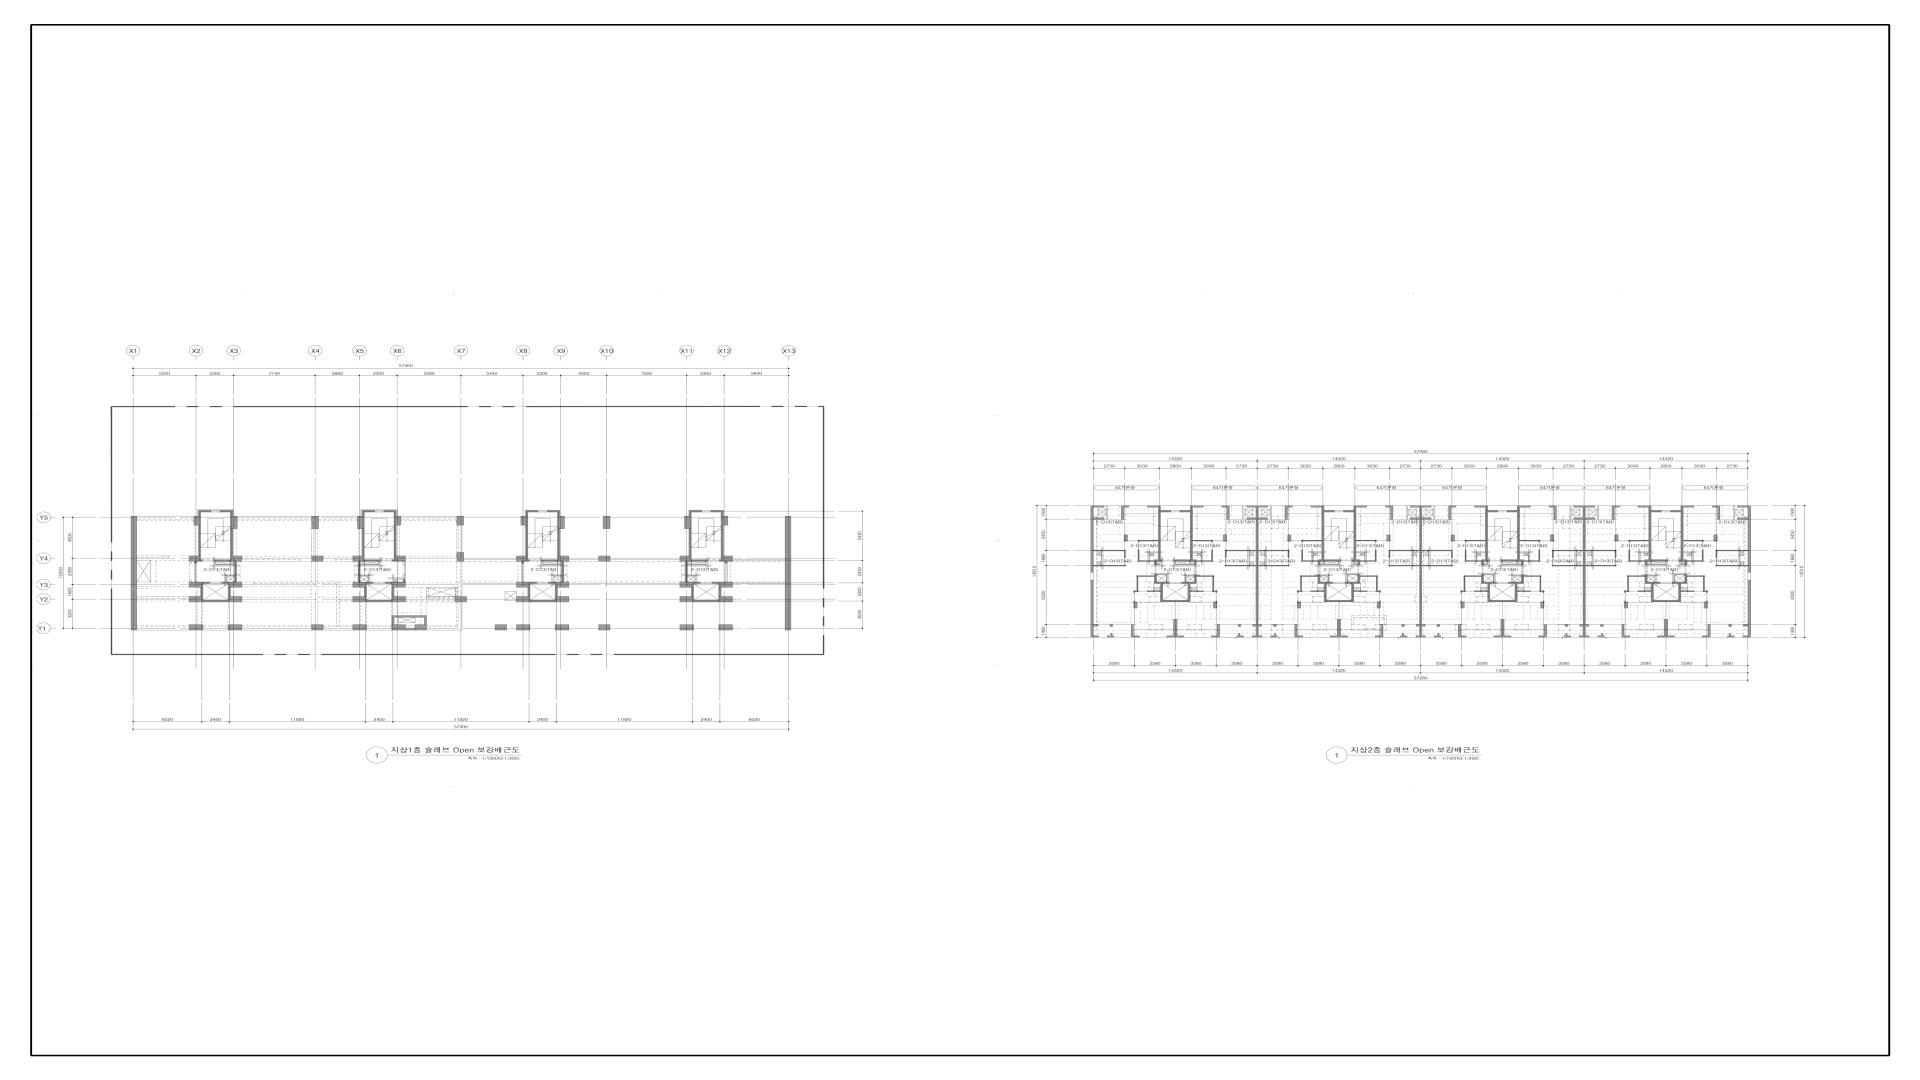wall: (131, 516, 137, 630), (785, 516, 791, 630), (1256, 507, 1259, 624), (1583, 507, 1586, 624), (1420, 507, 1422, 624), (1158, 505, 1161, 562), (1517, 505, 1520, 562), (1748, 580, 1751, 637), (1190, 505, 1193, 560), (1485, 505, 1488, 559), (1091, 505, 1093, 572), (1748, 507, 1751, 550), (1091, 580, 1093, 637), (1354, 505, 1356, 560), (1649, 505, 1651, 560), (1681, 506, 1683, 560), (1322, 506, 1324, 559), (557, 516, 565, 529), (684, 516, 692, 529), (198, 525, 201, 556), (721, 525, 724, 556), (312, 516, 319, 529), (357, 516, 364, 529), (603, 516, 610, 529), (230, 516, 237, 529), (189, 624, 203, 630), (353, 624, 367, 630), (516, 624, 530, 630), (555, 624, 569, 630), (719, 624, 733, 630), (189, 596, 203, 602), (228, 596, 242, 602), (353, 596, 367, 602), (392, 596, 406, 602), (392, 624, 406, 630), (516, 596, 530, 602), (555, 596, 569, 602), (680, 596, 694, 602), (719, 596, 733, 602), (230, 529, 233, 556), (557, 529, 560, 556), (689, 529, 692, 556), (495, 624, 507, 630), (394, 556, 406, 562), (516, 556, 528, 562), (557, 556, 569, 562), (721, 556, 733, 562), (230, 556, 242, 562), (189, 556, 201, 562), (415, 624, 427, 630), (455, 596, 467, 602), (228, 625, 242, 630), (680, 625, 694, 630), (189, 582, 203, 587), (228, 582, 242, 587), (353, 582, 367, 587), (392, 582, 406, 587), (516, 582, 530, 587), (555, 582, 569, 587), (680, 582, 694, 587), (719, 582, 733, 587), (457, 552, 464, 562), (392, 615, 427, 617), (1318, 559, 1341, 562), (1173, 619, 1177, 636), (1337, 619, 1341, 636), (1664, 619, 1668, 636), (312, 624, 323, 630), (599, 624, 610, 630), (312, 556, 323, 562), (353, 556, 364, 562), (599, 556, 610, 562), (680, 556, 691, 562), (1748, 551, 1751, 573), (457, 516, 464, 525), (394, 516, 401, 525), (521, 516, 528, 525), (721, 516, 728, 525), (194, 516, 201, 525), (394, 525, 396, 556), (526, 525, 528, 556), (234, 562, 237, 582), (685, 562, 688, 582), (1651, 600, 1681, 602), (362, 529, 364, 556), (1160, 584, 1163, 602), (1324, 584, 1327, 602), (1351, 584, 1354, 602), (691, 559, 708, 562), (1501, 619, 1504, 636), (203, 600, 228, 602), (367, 600, 392, 602), (530, 600, 555, 602), (694, 600, 719, 602), (1163, 600, 1188, 602), (1490, 600, 1515, 602), (1327, 600, 1351, 602), (1651, 584, 1654, 600), (1645, 560, 1668, 562), (1301, 540, 1322, 542), (1356, 540, 1377, 542), (1554, 506, 1557, 520), (1574, 505, 1595, 507), (1683, 540, 1704, 542), (358, 562, 360, 582), (562, 562, 564, 582), (1138, 540, 1158, 542), (1174, 560, 1194, 562), (1193, 540, 1213, 542), (1465, 540, 1485, 542), (1520, 540, 1540, 542), (1629, 540, 1649, 542), (1121, 507, 1124, 520), (1612, 507, 1615, 520), (1217, 624, 1220, 637), (1458, 624, 1461, 637), (1544, 624, 1547, 637), (1708, 624, 1711, 637), (1188, 584, 1190, 602), (1330, 636, 1348, 638), (1488, 584, 1490, 602), (1515, 584, 1517, 602), (1131, 624, 1134, 636), (364, 560, 381, 562), (1197, 575, 1214, 577), (1167, 636, 1184, 638), (1464, 575, 1481, 577), (1717, 550, 1751, 551), (1093, 565, 1126, 566), (1093, 517, 1104, 520), (1093, 550, 1126, 551), (1737, 517, 1748, 520), (214, 560, 230, 562), (541, 560, 557, 562), (1138, 560, 1154, 562), (1181, 582, 1197, 584), (1197, 560, 1213, 562), (1524, 575, 1540, 577), (1501, 560, 1517, 562), (1687, 575, 1703, 577), (1679, 584, 1681, 600), (1716, 565, 1748, 566), (1225, 565, 1256, 566), (1389, 565, 1420, 566), (1422, 565, 1453, 566), (1552, 565, 1583, 566), (1552, 550, 1583, 551), (1154, 574, 1157, 584), (1259, 550, 1289, 551), (1259, 565, 1289, 566), (1318, 582, 1333, 584), (1345, 582, 1360, 584), (1303, 560, 1318, 562), (1360, 560, 1375, 562), (1391, 505, 1393, 520), (1390, 550, 1420, 551), (1466, 560, 1481, 562), (1481, 574, 1484, 584), (1509, 582, 1524, 584), (1524, 560, 1539, 562), (1586, 565, 1616, 566), (1630, 560, 1645, 562), (1645, 574, 1648, 584), (1703, 576, 1705, 591), (1672, 582, 1687, 584), (1687, 560, 1702, 562), (1256, 626, 1259, 636), (1583, 626, 1586, 636), (1227, 550, 1256, 551), (1422, 550, 1451, 551), (1586, 550, 1615, 551), (1213, 601, 1217, 608), (1297, 601, 1301, 608), (1300, 577, 1302, 591), (1376, 577, 1378, 591), (1377, 601, 1381, 608), (1461, 601, 1465, 608), (1627, 577, 1629, 591), (1624, 601, 1628, 608), (1704, 601, 1708, 608), (1737, 505, 1751, 507), (228, 587, 231, 596), (364, 587, 367, 596), (555, 587, 558, 596), (691, 587, 694, 596), (1247, 517, 1256, 520), (1259, 517, 1268, 520), (1574, 517, 1583, 520), (1586, 517, 1595, 520), (1227, 507, 1229, 520), (1285, 507, 1287, 520), (1449, 507, 1451, 520), (1484, 582, 1497, 584), (1718, 507, 1720, 520), (1381, 624, 1383, 637), (1622, 624, 1624, 637), (424, 617, 427, 625), (1124, 535, 1128, 541), (1157, 582, 1169, 584), (1194, 574, 1197, 582), (1223, 535, 1227, 541), (1451, 535, 1455, 541), (1521, 574, 1524, 582), (1550, 535, 1554, 541), (1648, 582, 1660, 584), (1702, 550, 1704, 562), (1714, 535, 1718, 541), (1295, 624, 1297, 636), (364, 510, 375, 512), (1147, 505, 1158, 507), (1193, 505, 1204, 507), (1638, 505, 1649, 507), (1683, 505, 1694, 507), (1324, 510, 1335, 512), (1651, 510, 1662, 512), (1134, 601, 1137, 608), (1247, 506, 1268, 507), (1410, 506, 1431, 507), (1541, 601, 1544, 608), (201, 510, 211, 512), (220, 510, 230, 512), (384, 510, 394, 512), (528, 510, 538, 512), (547, 510, 557, 512), (692, 510, 702, 512), (711, 510, 721, 512), (1211, 550, 1213, 560), (1410, 518, 1420, 520), (1161, 510, 1171, 512), (1180, 510, 1190, 512), (1252, 624, 1262, 626), (1344, 510, 1354, 512), (1420, 626, 1422, 636), (1488, 510, 1498, 512), (1507, 510, 1517, 512), (1671, 510, 1681, 512), (201, 587, 203, 596), (198, 510, 201, 516), (230, 510, 233, 516), (406, 628, 415, 630), (392, 587, 394, 596), (528, 587, 530, 596), (557, 510, 560, 516), (719, 587, 721, 596), (689, 510, 692, 516), (721, 510, 724, 516), (1288, 535, 1291, 541), (1300, 576, 1318, 577), (1360, 576, 1378, 577), (1387, 535, 1390, 541), (1422, 518, 1431, 520), (1615, 535, 1618, 541), (1627, 576, 1645, 577), (1657, 636, 1675, 637), (1416, 624, 1425, 626), (1580, 624, 1589, 626), (1137, 576, 1154, 577), (1494, 636, 1511, 637), (392, 617, 394, 625), (1225, 550, 1227, 558), (1285, 505, 1293, 507), (1318, 574, 1320, 582), (1358, 574, 1360, 582), (1352, 560, 1360, 562), (1451, 550, 1453, 558), (1481, 560, 1489, 562), (1540, 575, 1541, 591), (1612, 505, 1620, 507), (1685, 574, 1687, 582), (1679, 560, 1687, 562), (1712, 505, 1720, 507), (1194, 560, 1197, 565), (203, 582, 210, 584), (385, 582, 392, 584), (530, 582, 537, 584), (712, 582, 719, 584), (1124, 551, 1126, 558), (1137, 577, 1138, 591), (1190, 591, 1204, 592), (1213, 577, 1214, 591), (1222, 505, 1229, 507), (1464, 577, 1465, 591), (1552, 551, 1554, 558), (1147, 591, 1160, 592), (1311, 591, 1324, 592), (1354, 591, 1367, 592), (1475, 591, 1488, 592), (1518, 591, 1531, 592), (1638, 591, 1651, 592), (1681, 591, 1694, 592), (222, 582, 228, 584), (367, 582, 373, 584), (362, 510, 364, 516), (394, 510, 396, 516), (549, 582, 555, 584), (526, 510, 528, 516), (694, 582, 700, 584), (1302, 550, 1303, 562), (1375, 550, 1376, 562), (1385, 505, 1391, 507), (1465, 550, 1466, 562), (1539, 550, 1540, 562), (1629, 550, 1630, 562), (1624, 591, 1630, 593), (1743, 624, 1749, 626), (1600, 624, 1604, 627), (1093, 506, 1104, 507), (1311, 506, 1322, 507), (1356, 506, 1367, 507), (1474, 506, 1485, 507), (1520, 506, 1531, 507), (1134, 591, 1139, 593), (1138, 550, 1139, 560), (1212, 591, 1217, 593), (1252, 636, 1262, 637), (1297, 591, 1302, 593), (1376, 591, 1381, 593), (1416, 636, 1426, 637), (1461, 591, 1466, 593), (1539, 591, 1544, 593), (1579, 636, 1589, 637), (1703, 591, 1708, 593), (1093, 624, 1098, 626), (1154, 562, 1157, 565), (1481, 562, 1484, 565), (1521, 562, 1524, 565), (1110, 624, 1113, 627), (1238, 624, 1241, 627), (1273, 624, 1276, 627), (1402, 624, 1405, 627), (1565, 624, 1568, 627), (1729, 624, 1732, 627), (1437, 624, 1440, 627), (1121, 506, 1129, 507), (1154, 560, 1158, 562), (1389, 550, 1390, 558), (1520, 560, 1524, 562), (1615, 550, 1616, 558), (1716, 550, 1717, 558), (1131, 636, 1139, 637), (1295, 636, 1303, 637), (1288, 551, 1289, 558), (1449, 506, 1456, 507), (1107, 636, 1114, 637), (1237, 636, 1244, 637), (1400, 636, 1407, 637), (1434, 636, 1441, 637), (1564, 636, 1571, 637), (1598, 636, 1605, 637), (1728, 636, 1735, 637), (194, 562, 197, 564), (403, 580, 406, 582), (392, 559, 394, 562), (521, 562, 524, 564), (1093, 636, 1099, 637), (1318, 562, 1320, 565), (1358, 562, 1360, 565), (1645, 562, 1647, 565), (1685, 562, 1687, 565), (1211, 636, 1217, 637), (1271, 636, 1277, 637), (1274, 633, 1276, 636), (1375, 636, 1381, 637), (1402, 633, 1404, 636), (1601, 633, 1603, 636), (1624, 636, 1630, 637), (1702, 636, 1708, 637), (1729, 633, 1731, 636), (1549, 506, 1554, 507), (1461, 636, 1466, 637), (1539, 636, 1544, 637), (1743, 636, 1748, 637), (201, 560, 203, 562), (528, 560, 530, 562), (719, 560, 721, 562), (725, 562, 727, 564), (1160, 560, 1162, 562), (1111, 633, 1112, 636), (1239, 633, 1240, 636), (1438, 633, 1439, 636), (1566, 633, 1567, 636)
